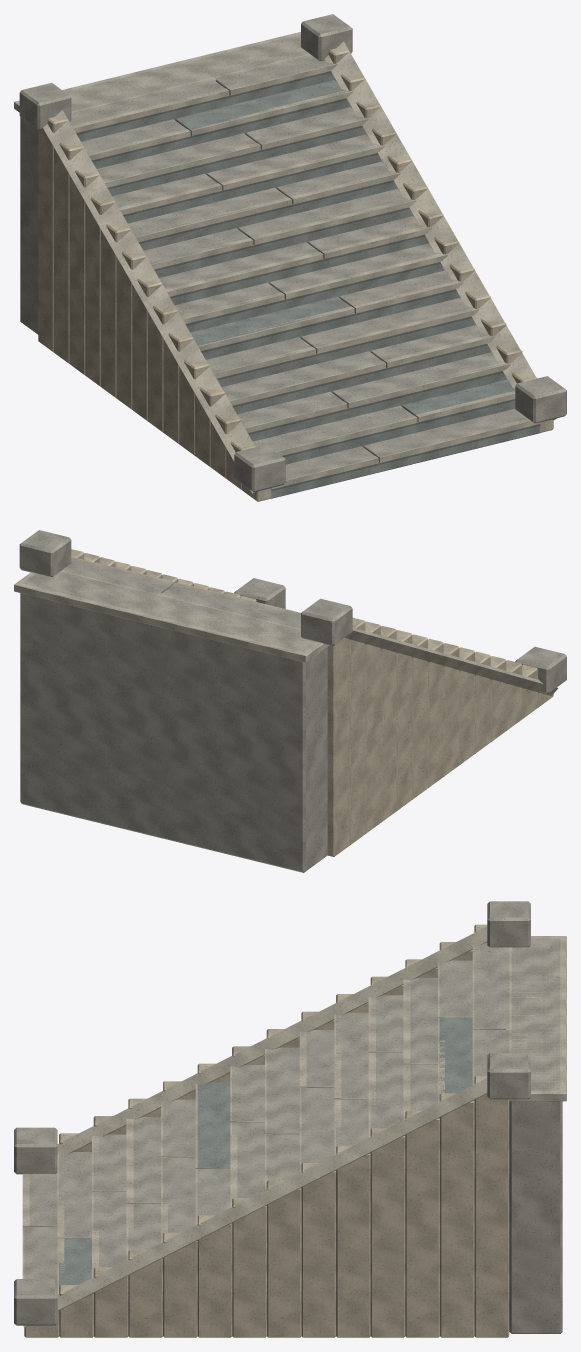
The picture shows the model from 3 angles, top to bottom: view 1: azimuth 30°, elevation 25°; view 2: azimuth 150°, elevation 25°; view 3: azimuth 270°, elevation 25°; orthographic projection. The views are drawn at different scales.
Visible parts, largest first — view 1: C02_stone, C02_light, C02_cool, C02_relief, C02_joint; view 2: C02_stone, C02_relief, C02_light; view 3: C02_stone, C02_relief, C02_light, C02_cool.
Part boxes in pixels (<box>): C02_stone: <box>19,14,566,491</box>; C02_light: <box>14,32,556,497</box>; C02_cool: <box>77,72,540,498</box>; C02_relief: <box>38,48,553,501</box>; C02_joint: <box>76,71,539,490</box>; C02_stone: <box>19,530,566,872</box>; C02_relief: <box>71,549,553,856</box>; C02_light: <box>14,553,558,695</box>; C02_stone: <box>14,901,562,1333</box>; C02_relief: <box>24,924,509,1337</box>; C02_light: <box>22,926,566,1327</box>; C02_cool: <box>59,1018,472,1285</box>.
Bounding box in the file's own units: 3.6 × 2.7 × 4.95.
Materials: 5 (5 with a texture image).
